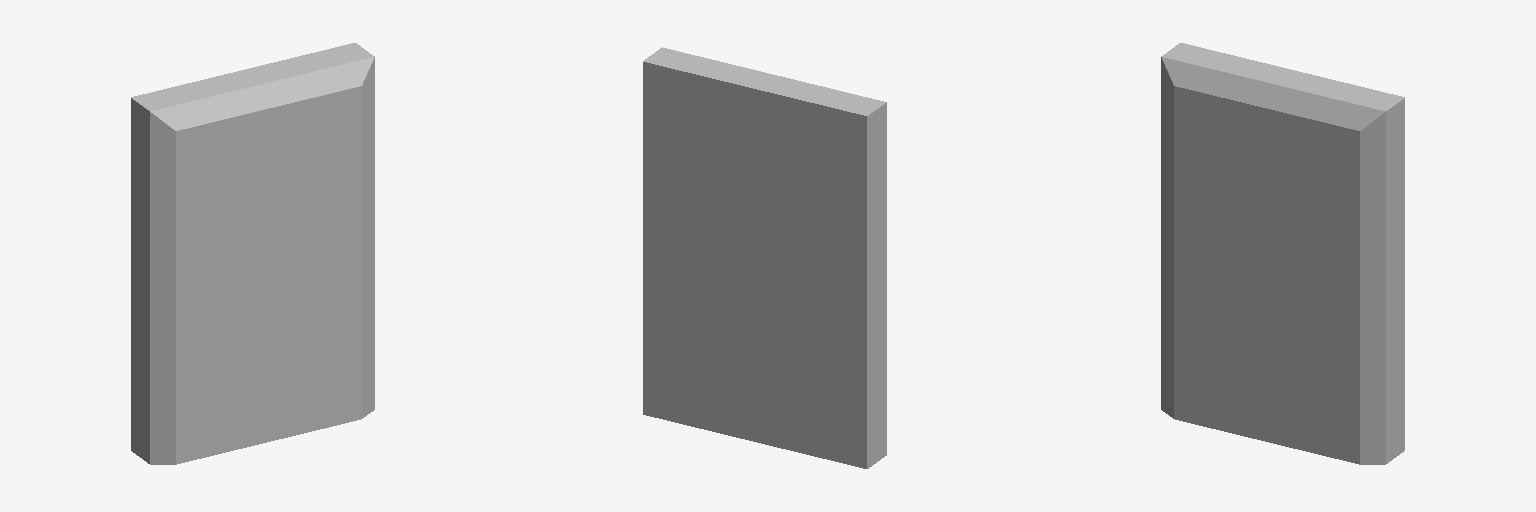
The model's file is WallCombined.obj.
The picture shows the model from 3 angles: view 1: azimuth 30°, elevation 25°; view 2: azimuth 150°, elevation 25°; view 3: azimuth 330°, elevation 25°; orthographic projection.
Parts seen in each view (by area): view 1: WallTile:Mesh1; view 2: WallTile:Mesh1; view 3: WallTile:Mesh1.
Part boxes in pixels (x1,y1,x2,y2): WallTile:Mesh1: (131, 43, 374, 464); WallTile:Mesh1: (643, 47, 886, 468); WallTile:Mesh1: (1161, 43, 1404, 464).
Size of the model in its own units: 2 by 3 by 0.4.